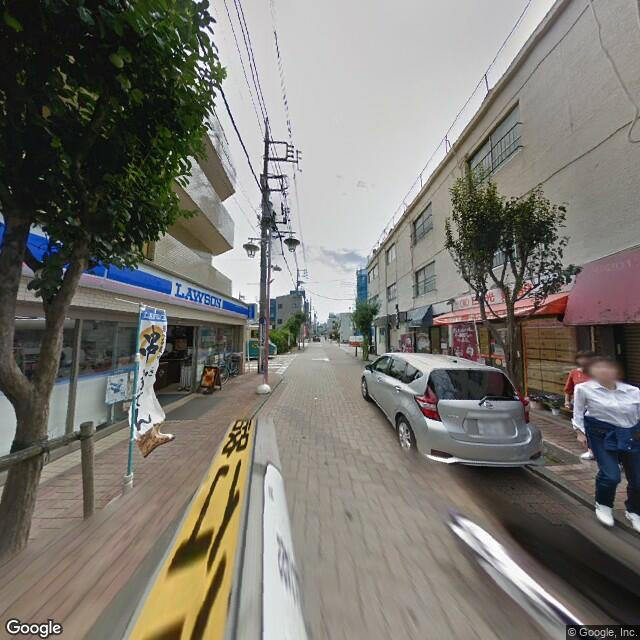lawson: (82, 253, 254, 319)
